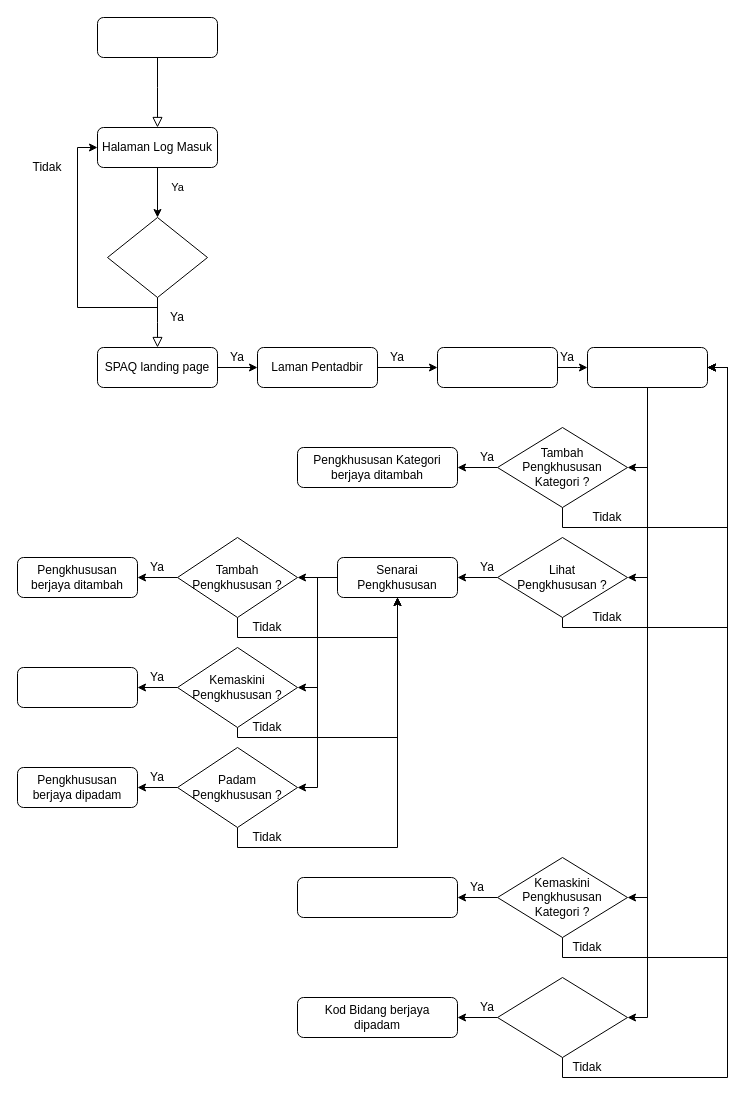
Image size: 753x1103. Some labels were removed from this diagram. Here are the shapes that lost their labels. From the top down, the centre of each, then its label:
At point (157, 37): "Pentadbir".
At point (157, 257): "Log masuk?".
At point (497, 367): "Senarai Kod Kelas Pengkhususan".
At point (647, 367): "Senarai Pengkhususan Kategori".
At point (77, 687): "Pengkhususan berjaya dikemaskini".
At point (377, 897): "Pengkhususan Kategori berjaya dikemaskini".
At point (562, 1017): "Padam Pengkhususan Kategori ?".
